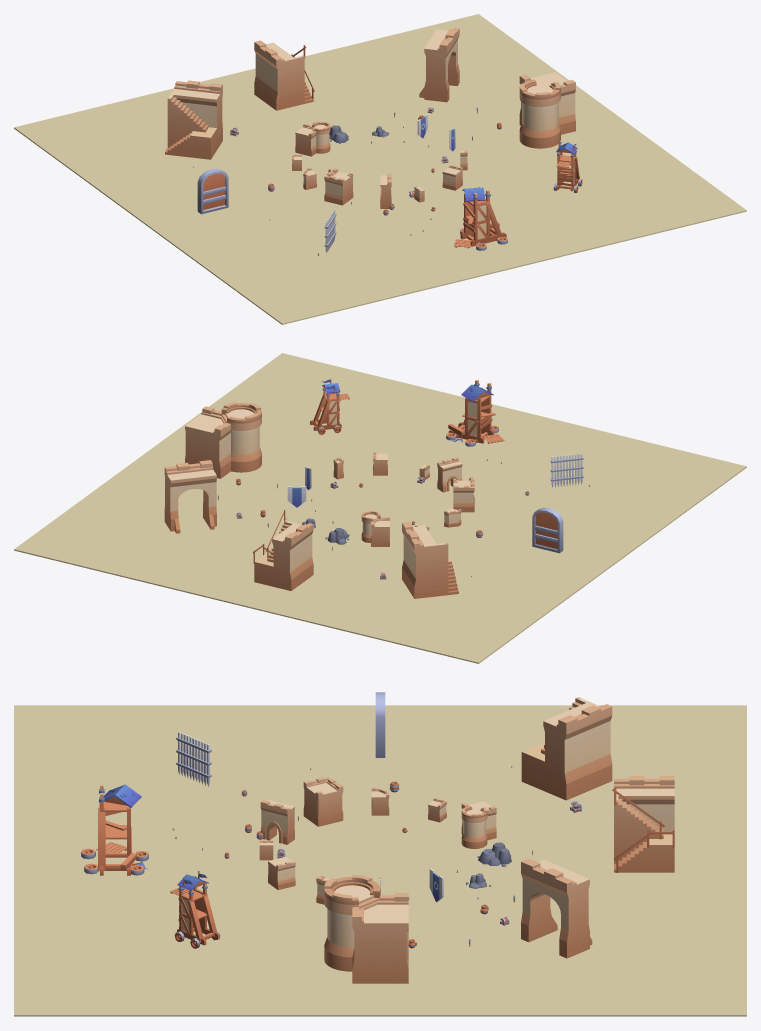
File: world.glb
3 renders of one model, top to bottom at view 1: azimuth 30°, elevation 25°; view 2: azimuth 150°, elevation 25°; view 3: azimuth 270°, elevation 25°, orthographic. The views are drawn at different scales.
Visible parts, largest first — view 1: Terrain, Ruin_003_wall-narrow-stairs, Ruin_000_wall-corner-half-tow, Ruin_002_wall-narrow-stairs-r, Ruin_001_wall-narrow-gate, Ruin_006_siege-tower-demolish, Ruin_004_gate, Stone_004_wall-corner-half-tow, Ruin_007_siege-tower, Stone_007_wall-corner; view 2: Terrain, Ruin_000_wall-corner-half-tow, Ruin_003_wall-narrow-stairs, Ruin_002_wall-narrow-stairs-r, Ruin_001_wall-narrow-gate, Ruin_006_siege-tower-demolish, Ruin_004_gate, Ruin_007_siege-tower, Stone_004_wall-corner-half-tow, Ruin_005_metal-gate, Stone_007_wall-corner, Stone_008_wall-doorway; view 3: Terrain, Ruin_000_wall-corner-half-tow, Ruin_003_wall-narrow-stairs, Ruin_002_wall-narrow-stairs-r, Ruin_001_wall-narrow-gate, Ruin_006_siege-tower-demolish, Ruin_007_siege-tower, Stone_007_wall-corner, Stone_004_wall-corner-half-tow, Ruin_005_metal-gate, Stone_008_wall-doorway, Stone_010_wall-half (+2 smaller).
Boxes of the visible parts, x1,y1,x2,y2 form: Terrain: (14, 14, 746, 324); Ruin_003_wall-narrow-stairs: (165, 80, 222, 159); Ruin_000_wall-corner-half-tow: (519, 72, 575, 148); Ruin_002_wall-narrow-stairs-r: (254, 40, 314, 110); Ruin_001_wall-narrow-gate: (419, 27, 459, 102); Ruin_006_siege-tower-demolish: (454, 187, 507, 250); Ruin_004_gate: (197, 168, 228, 214); Stone_004_wall-corner-half-tow: (295, 121, 330, 156); Ruin_007_siege-tower: (553, 142, 582, 192); Stone_007_wall-corner: (324, 168, 353, 205); Terrain: (14, 353, 746, 663); Ruin_000_wall-corner-half-tow: (185, 401, 261, 478); Ruin_003_wall-narrow-stairs: (402, 522, 458, 598); Ruin_002_wall-narrow-stairs-r: (253, 510, 313, 590); Ruin_001_wall-narrow-gate: (164, 460, 216, 533); Ruin_006_siege-tower-demolish: (446, 379, 504, 446); Ruin_004_gate: (532, 507, 563, 553); Ruin_007_siege-tower: (310, 379, 350, 434); Stone_004_wall-corner-half-tow: (361, 510, 389, 546); Ruin_005_metal-gate: (550, 453, 583, 487); Stone_007_wall-corner: (453, 478, 474, 512); Stone_008_wall-doorway: (437, 457, 462, 492); Terrain: (14, 705, 746, 1016); Ruin_000_wall-corner-half-tow: (324, 874, 408, 983); Ruin_003_wall-narrow-stairs: (521, 697, 612, 800); Ruin_002_wall-narrow-stairs-r: (612, 776, 674, 872); Ruin_001_wall-narrow-gate: (521, 858, 592, 958); Ruin_006_siege-tower-demolish: (81, 784, 148, 875); Ruin_007_siege-tower: (170, 871, 220, 948); Stone_007_wall-corner: (303, 777, 343, 826); Stone_004_wall-corner-half-tow: (461, 801, 496, 848); Ruin_005_metal-gate: (176, 731, 211, 786); Stone_008_wall-doorway: (260, 800, 294, 844); Stone_010_wall-half: (268, 857, 295, 889).
Bounding box in the file's own units: 180 × 21.98 × 180.
Materials: 26 (25 with a texture image).
